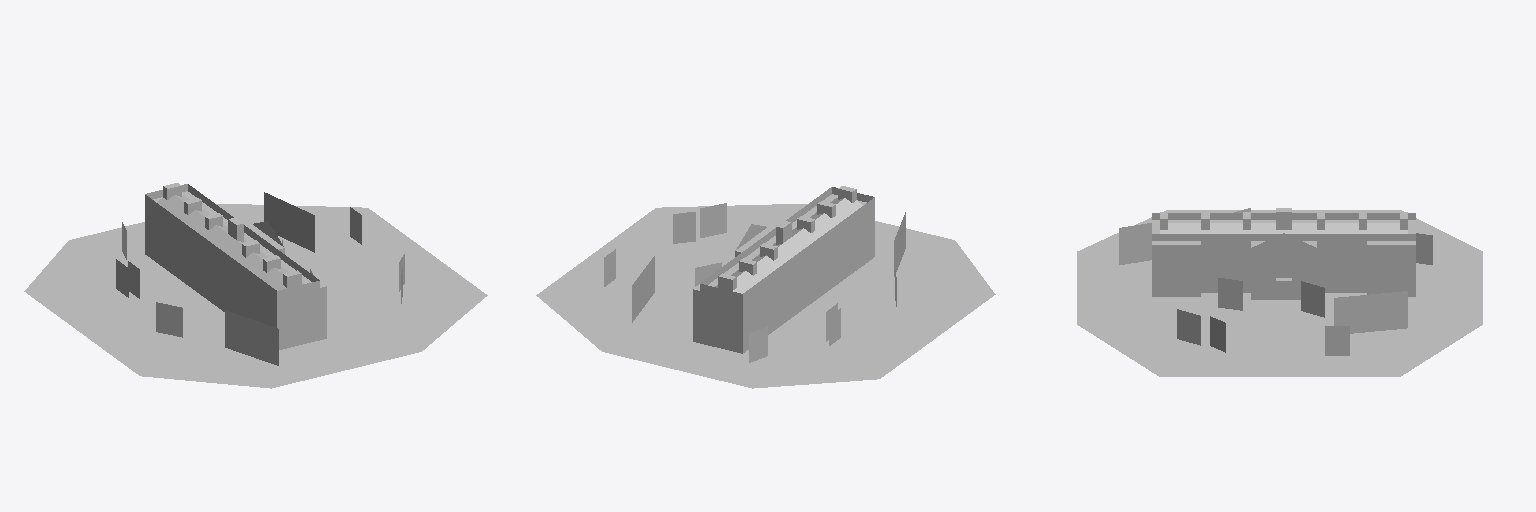
File: royal mint props.obj
3 renders of one model, left to right at view 1: azimuth 30°, elevation 25°; view 2: azimuth 150°, elevation 25°; view 3: azimuth 270°, elevation 25°, orthographic.
Parts seen in each view (by area): view 1: royal mint props; view 2: royal mint props; view 3: royal mint props.
Boxes of the visible parts, box(x1,y1,x2,y2) form: royal mint props: box(24, 183, 487, 388); royal mint props: box(536, 186, 995, 388); royal mint props: box(1077, 208, 1482, 376).
Size of the model in its own units: 12 by 2.5 by 12.25.